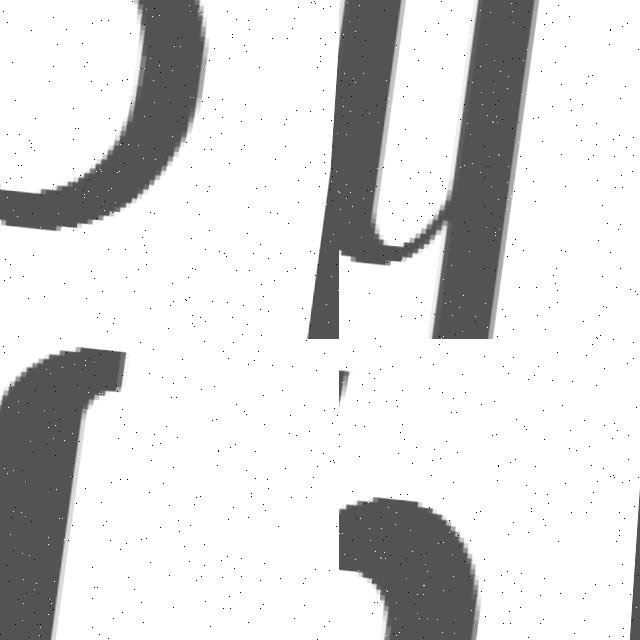D: (0, 0, 239, 339)
H: (339, 0, 541, 339)
J: (0, 339, 143, 640)
Q: (339, 348, 522, 640)
